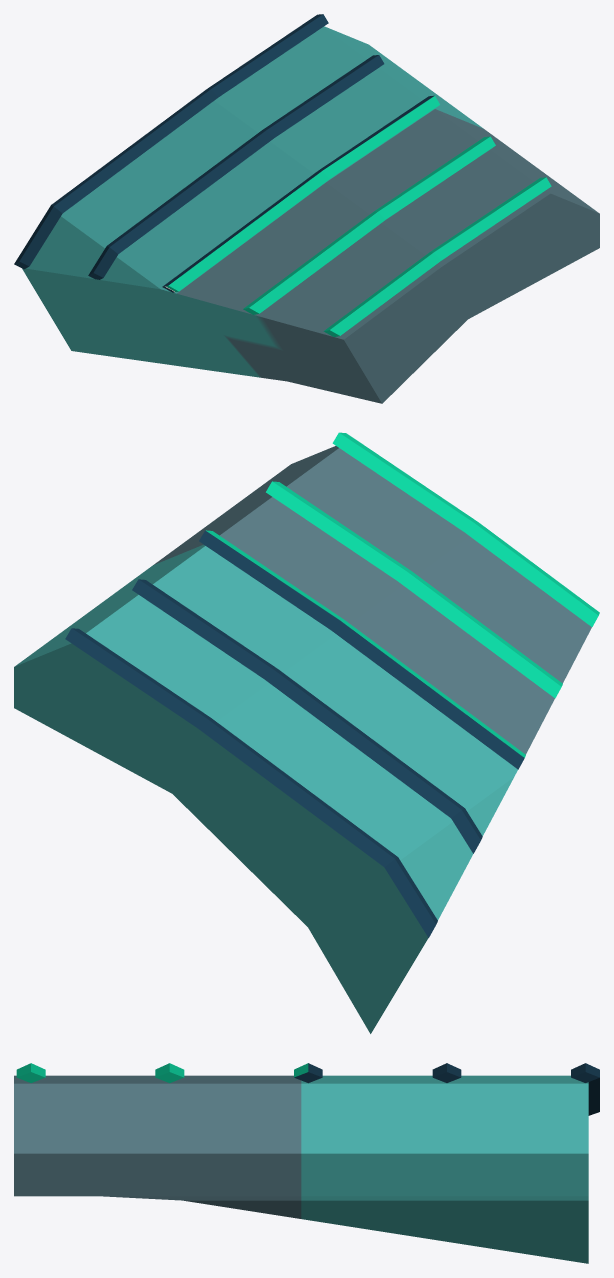
Rendered from Freighter_Guard.05.fbx.
3 views of the same model, one above another, from view 1: azimuth 30°, elevation 25°; view 2: azimuth 150°, elevation 25°; view 3: azimuth 270°, elevation 25° (orthographic). The views are drawn at different scales.
Visible parts, largest first — view 1: CruiserGuard_05_LOD0; view 2: CruiserGuard_05_LOD0; view 3: CruiserGuard_05_LOD0.
Boxes of the visible parts, x1,y1,x2,y2 form: CruiserGuard_05_LOD0: [14, 14, 599, 403]; CruiserGuard_05_LOD0: [14, 432, 599, 1033]; CruiserGuard_05_LOD0: [14, 1063, 599, 1263].
Size of what is drawn, in the model's own units: 4156 by 3132 by 4834.
Materials: 1 (1 with a texture image).
